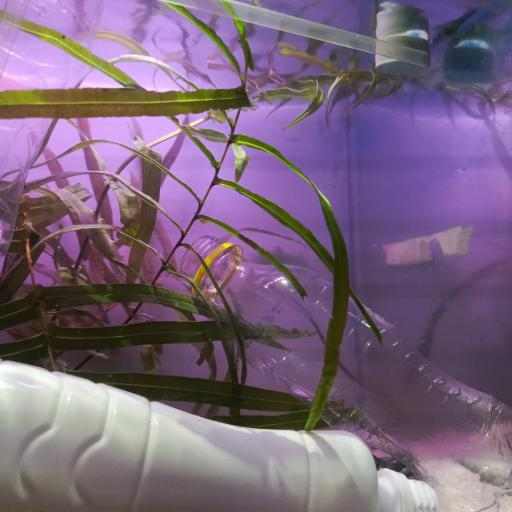bottle_cap: (375, 36, 429, 74)
plastic_bottle: (178, 233, 512, 512), (0, 359, 438, 512), (1, 0, 109, 294)
plastic_straw: (162, 0, 430, 67)
